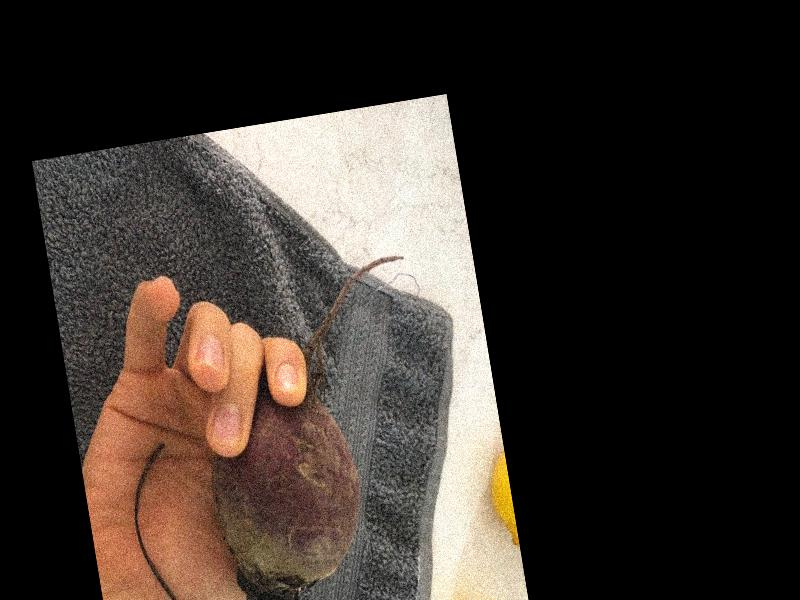Beet: (99, 254, 457, 600)
